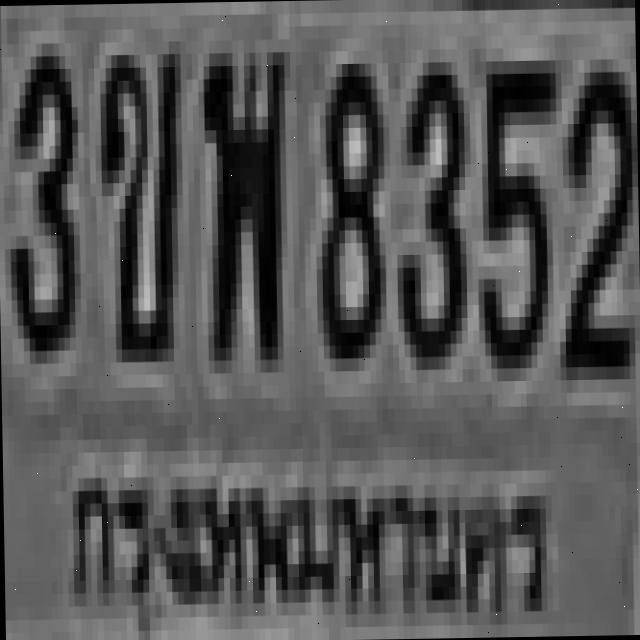11KhorKhai: (94, 41, 180, 349)
2: (555, 58, 635, 366)
3: (1, 43, 76, 351), (390, 49, 464, 357)
39PhorPan: (197, 40, 289, 348)
5: (474, 54, 554, 362)
8: (313, 50, 382, 358)
Bangkok: (49, 435, 564, 640)
